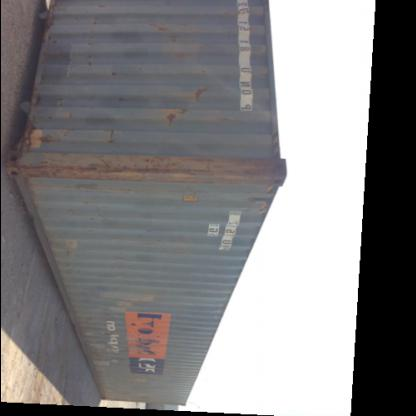Damage: (22, 154, 276, 190), (100, 284, 162, 308), (89, 323, 121, 366), (83, 6, 103, 68), (61, 226, 82, 276), (150, 235, 193, 255), (24, 130, 67, 148), (160, 108, 196, 127), (188, 76, 210, 106), (158, 23, 186, 46), (136, 331, 152, 363), (126, 376, 160, 386), (106, 126, 122, 144), (109, 72, 125, 82)
